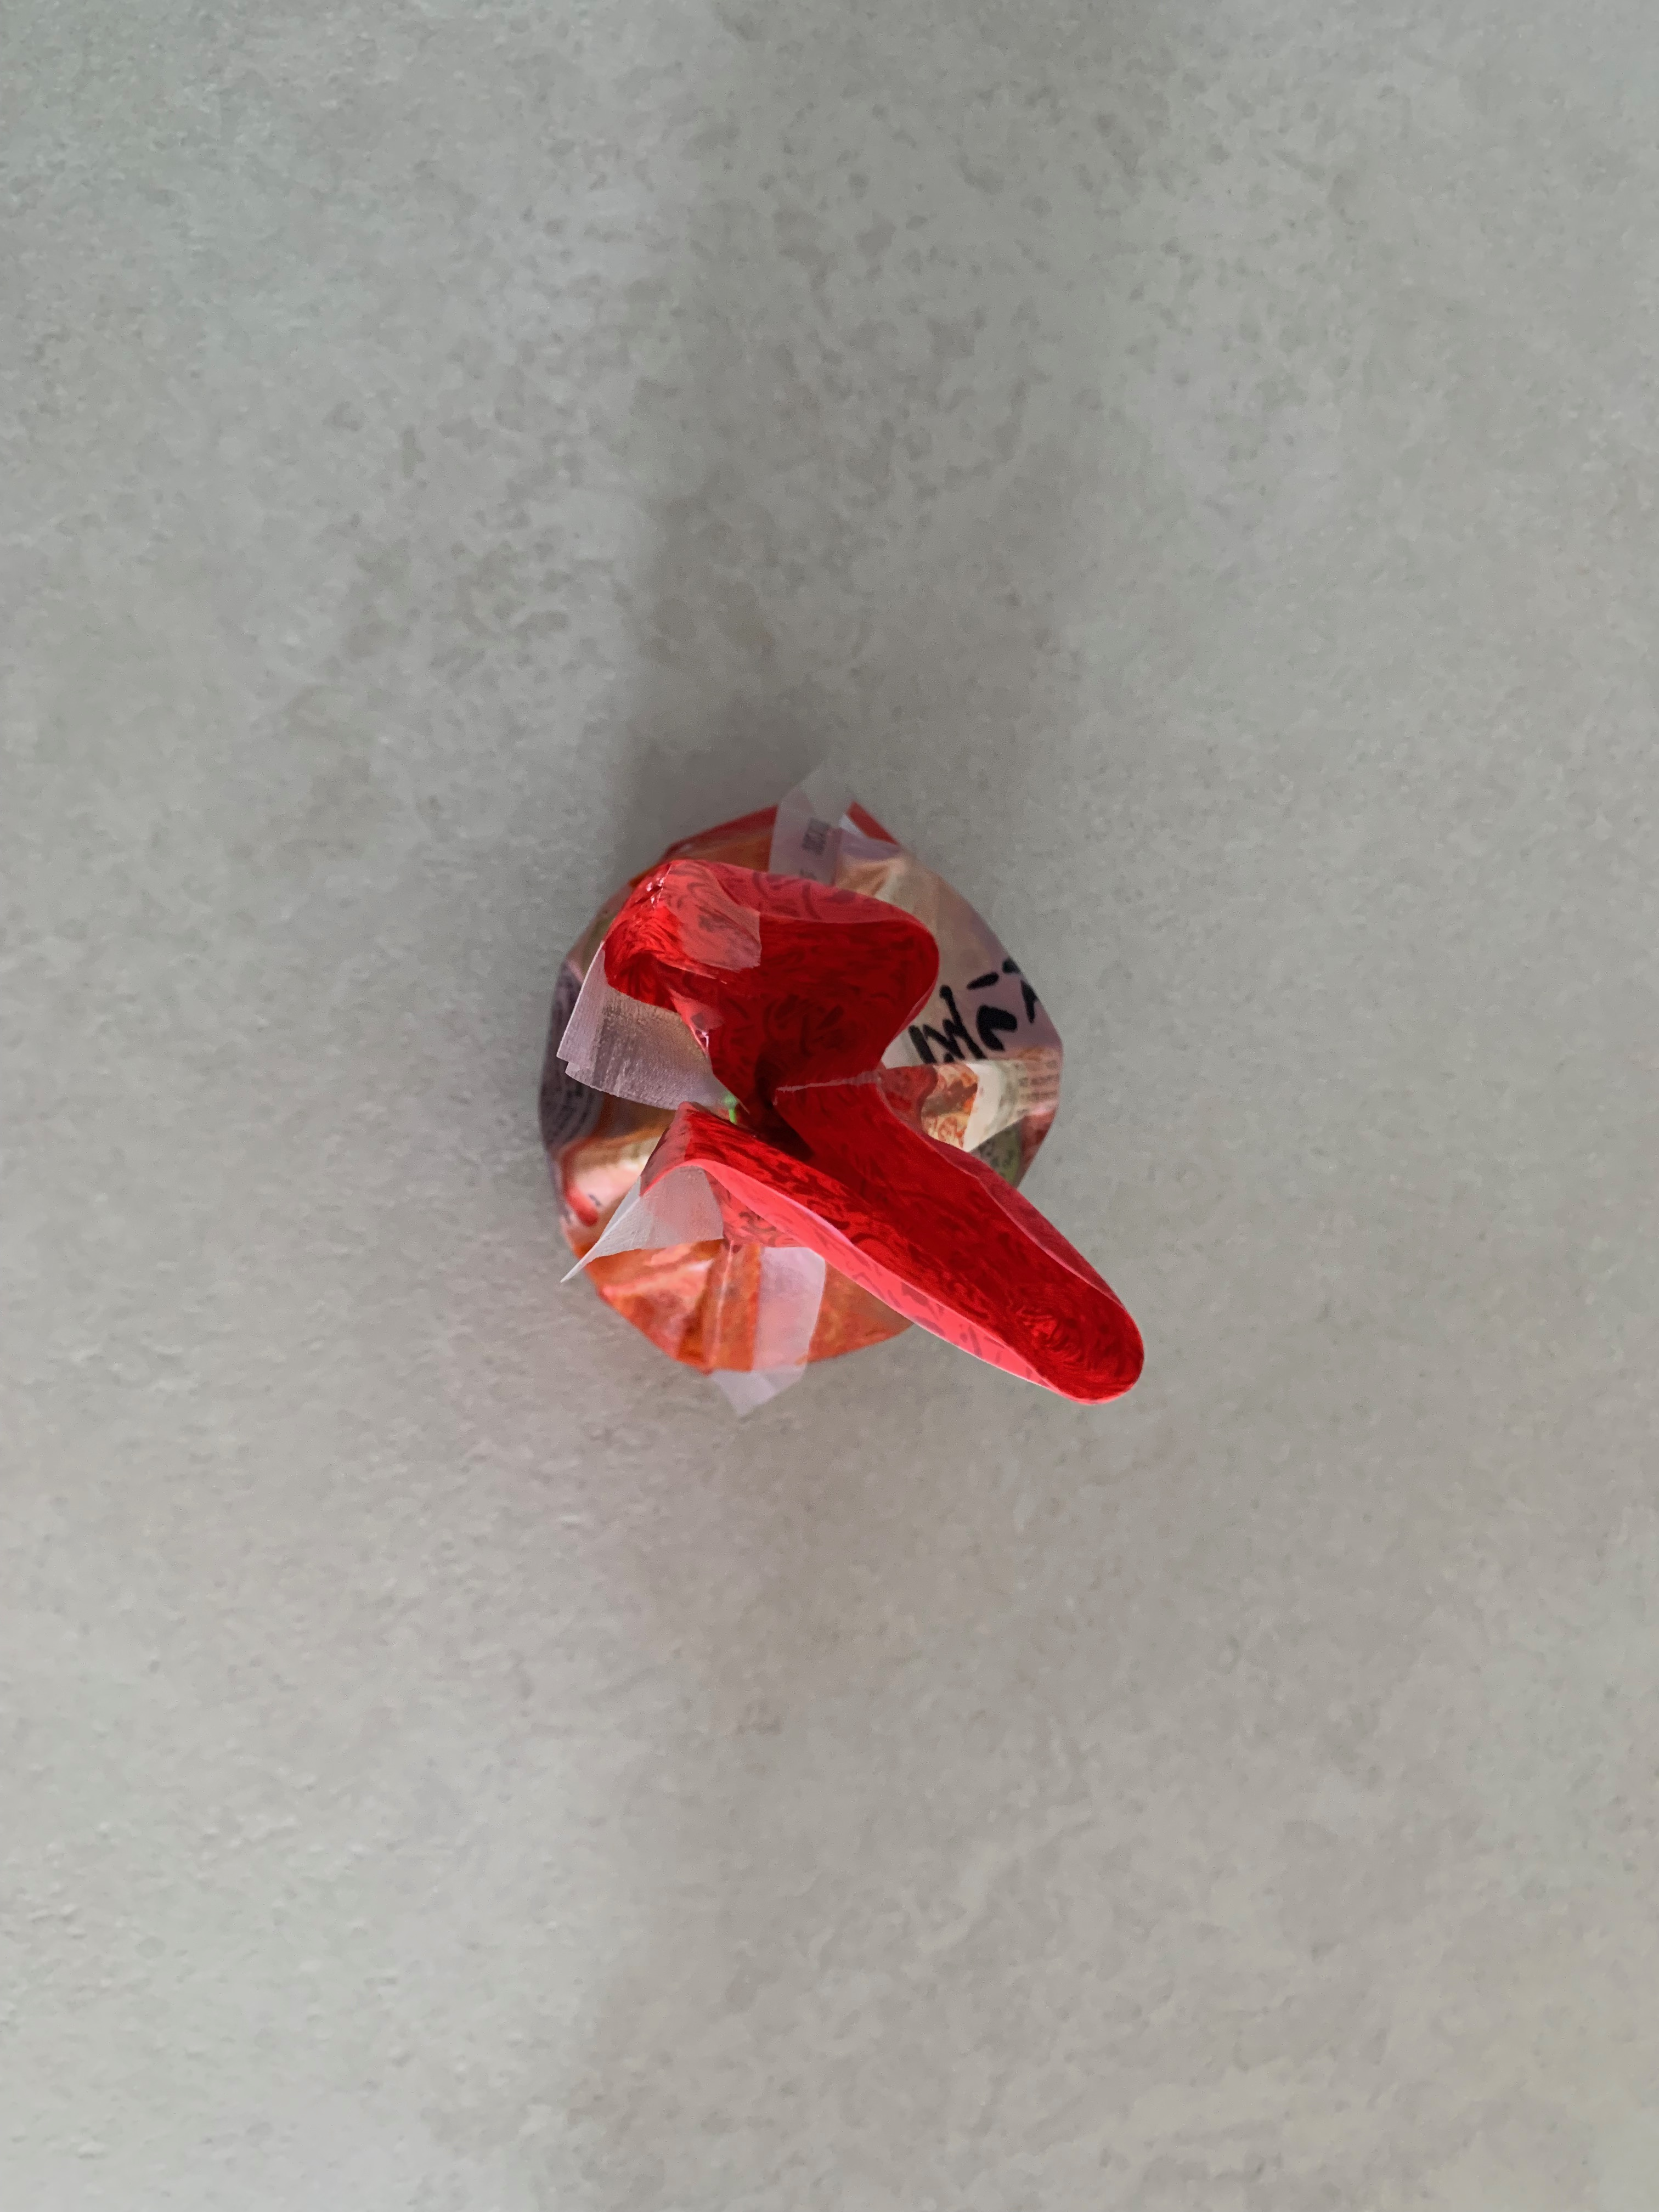kimchi: (552, 806, 1154, 1407)
